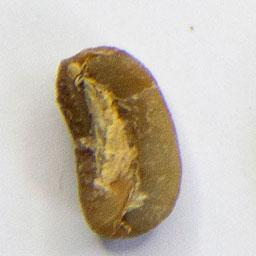defect: (53, 42, 185, 242)
